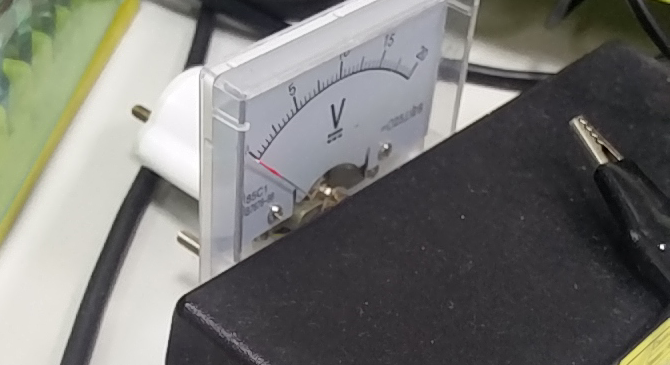Volt_Meter: (205, 1, 448, 243)
